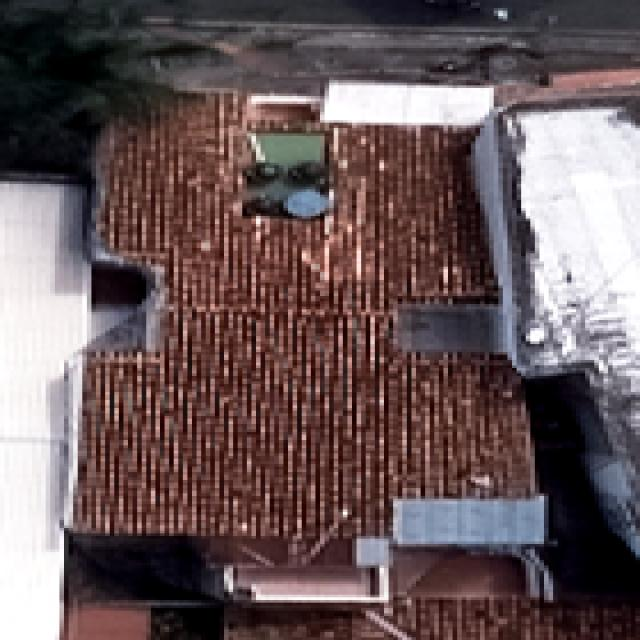Batiment: (75, 92, 534, 562)
